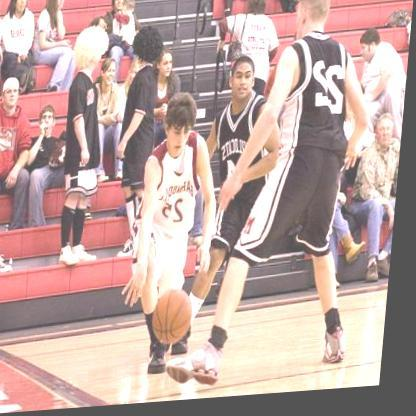basketball: (156, 292, 202, 350)
